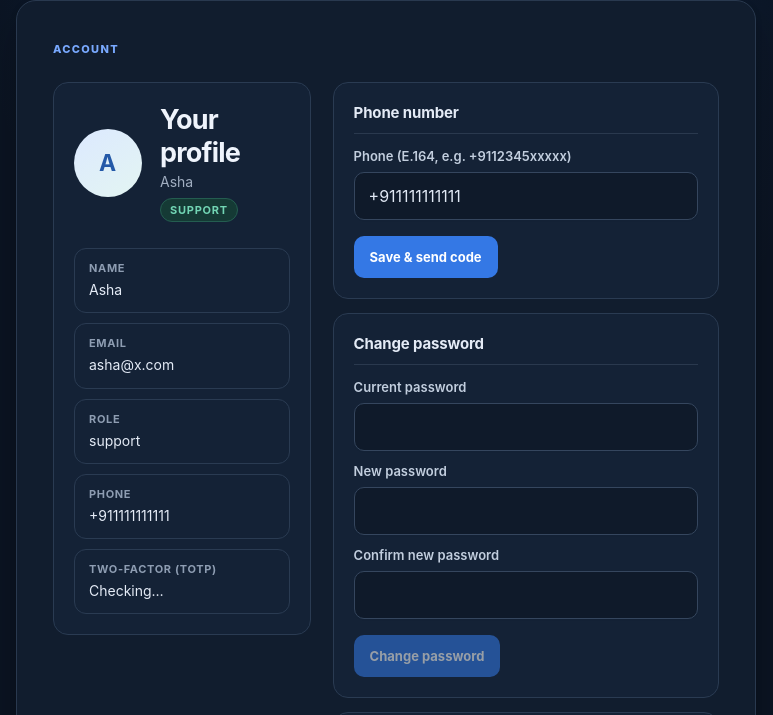
Test: ProfilePanel › surfaces an error when phone save fails
The image size is (773, 715).
Click the button "Save & send code".
click(426, 257)  # box [354,236,498,278]
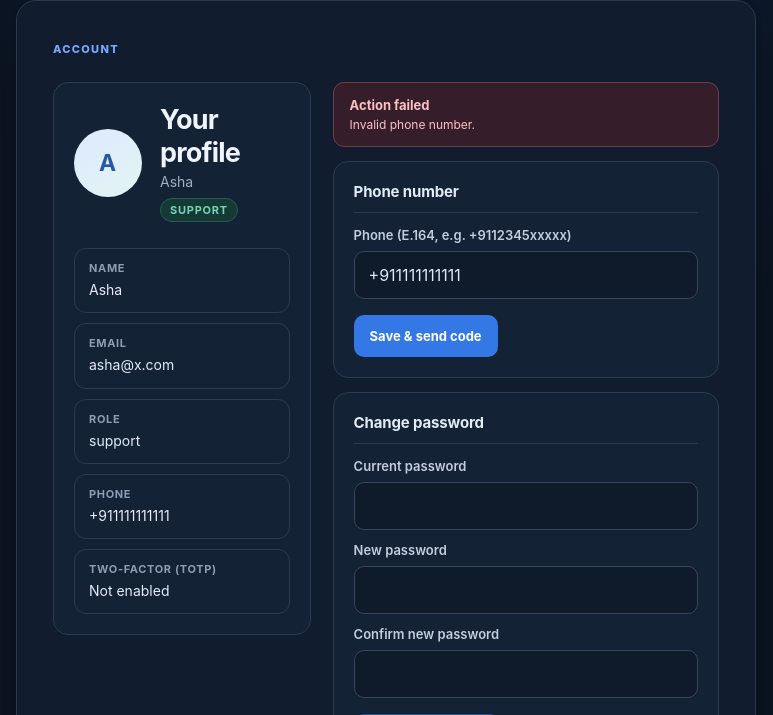
Check: the text "Invalid phone number." is shown, box [350,117,475,132]
